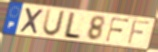8: (86, 14, 106, 42)
F: (126, 18, 152, 45), (105, 17, 131, 43)
L: (61, 11, 83, 41)
U: (41, 8, 67, 39)
X: (18, 7, 45, 36)
